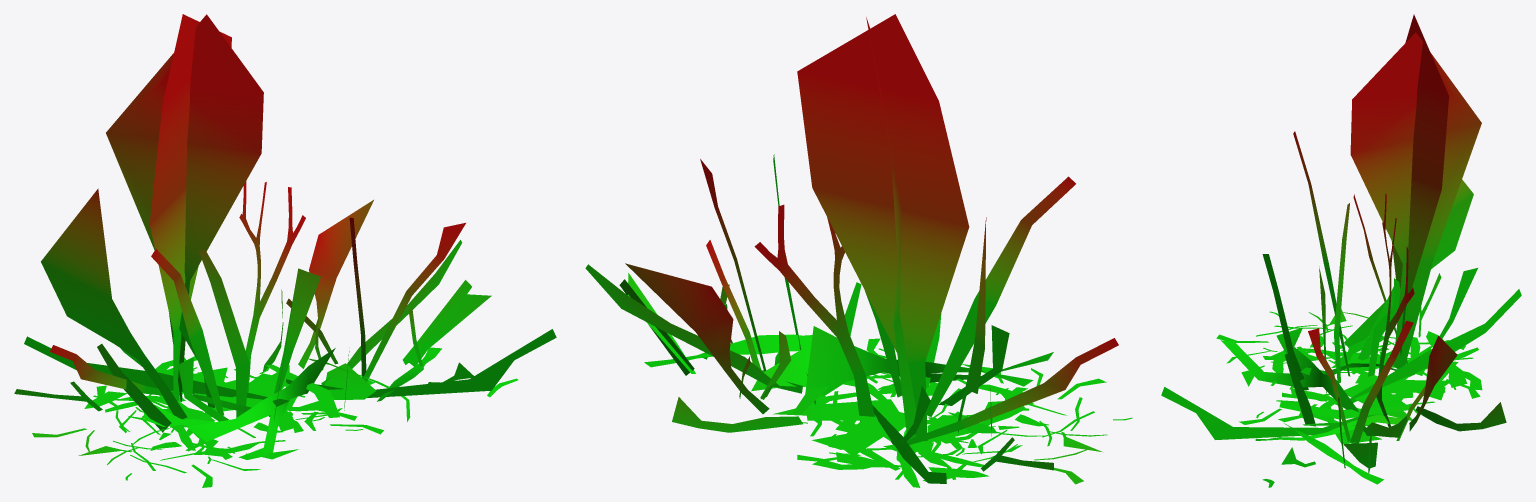
File: Dead Shrubs_LOD2_Var11_vdknbbuha.fbx
3 views of the same model, side by side, from view 1: azimuth 30°, elevation 25°; view 2: azimuth 150°, elevation 25°; view 3: azimuth 270°, elevation 25° (orthographic). The views are drawn at different scales.
Parts seen in each view (by area): view 1: _0pxz_Var11_LOD2; view 2: _0pxz_Var11_LOD2; view 3: _0pxz_Var11_LOD2.
Boxes of the visible parts, x1=… form: _0pxz_Var11_LOD2: x1=14, y1=14, x2=556, y2=487; _0pxz_Var11_LOD2: x1=585, y1=14, x2=1132, y2=487; _0pxz_Var11_LOD2: x1=1161, y1=14, x2=1521, y2=487.
Size of the model in its own units: 63.68 by 53.67 by 47.57.
